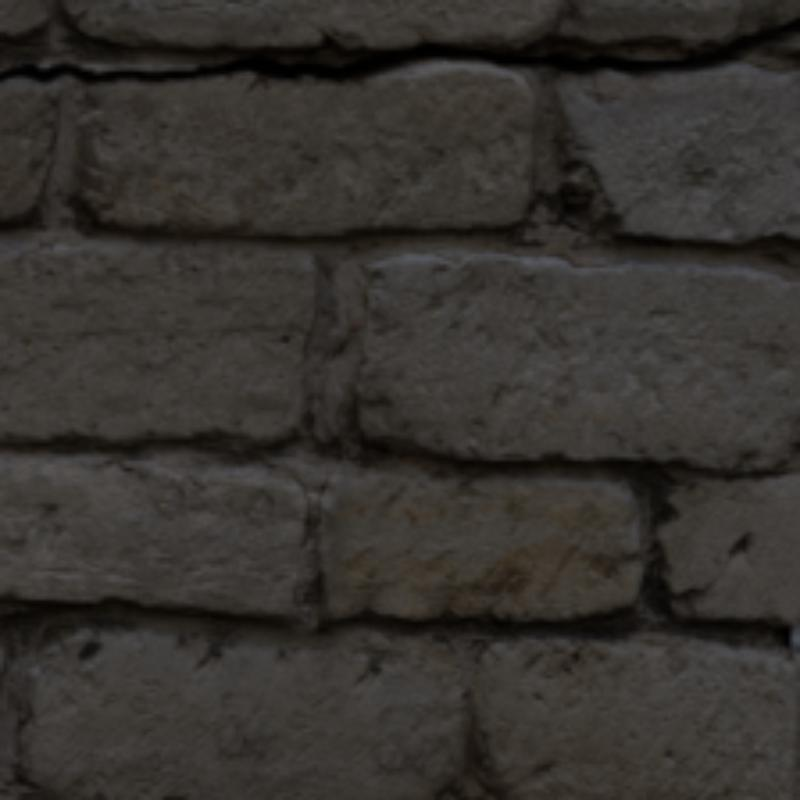crack: (0, 18, 796, 82)
